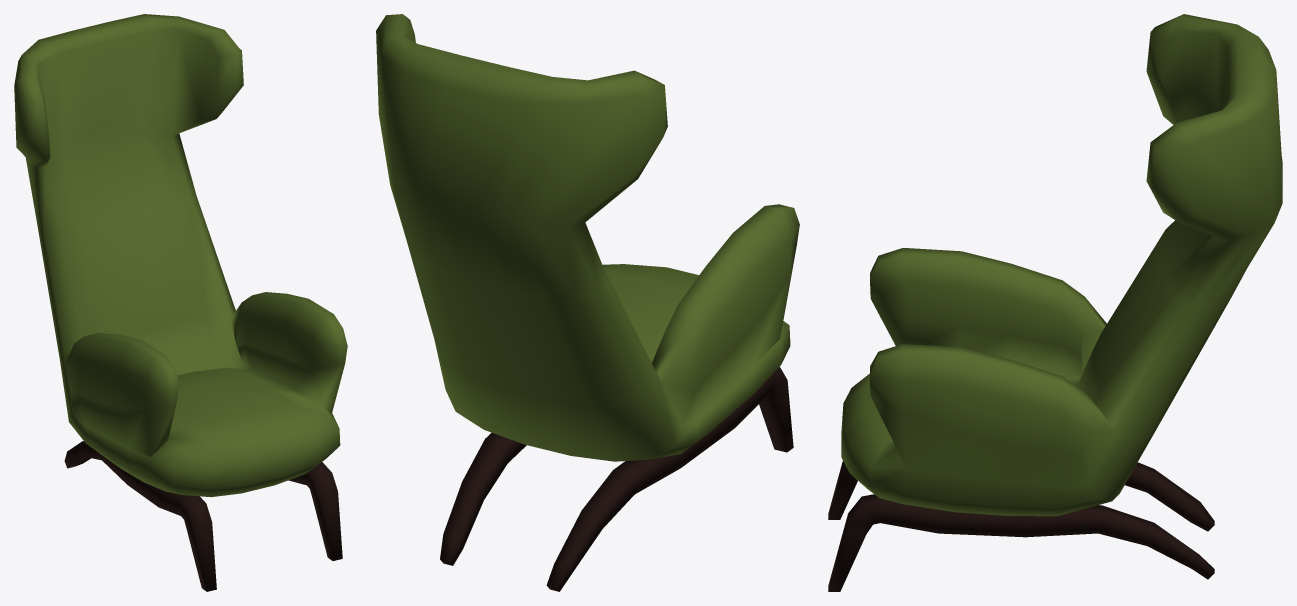
File: SillonA.fbx
3 renders of one model, left to right at view 1: azimuth 30°, elevation 25°; view 2: azimuth 150°, elevation 25°; view 3: azimuth 270°, elevation 25°, orthographic. The views are drawn at different scales.
Parts seen in each view (by area): view 1: SillonA; view 2: SillonA; view 3: SillonA.
Boxes of the visible parts, x1=… form: SillonA: x1=14, y1=14, x2=347, y2=591; SillonA: x1=376, y1=14, x2=799, y2=591; SillonA: x1=828, y1=14, x2=1282, y2=591.
Bounding box in the file's own units: 98.82 × 175 × 148.
